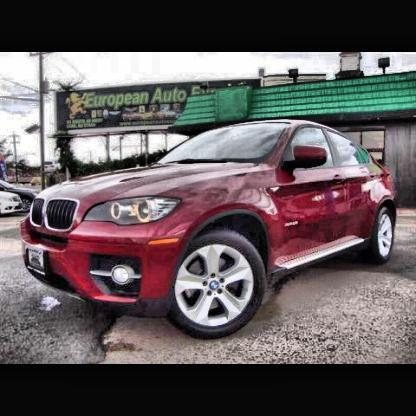BMW X6 SUV 2012: (18, 118, 401, 339)
